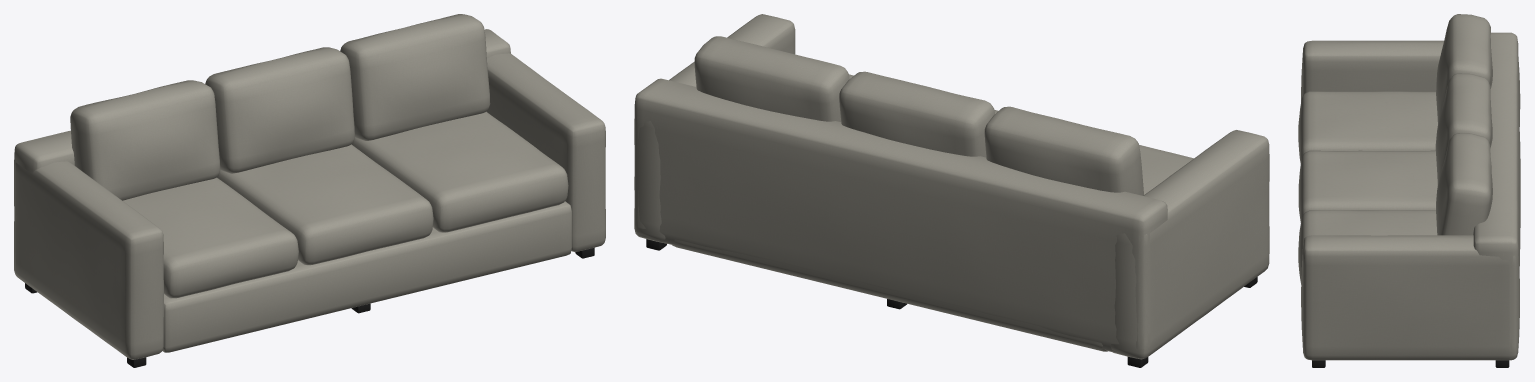
The model's file is sofa_moderno_3p.glb.
3 renders of one model, left to right at view 1: azimuth 30°, elevation 25°; view 2: azimuth 150°, elevation 25°; view 3: azimuth 270°, elevation 25°, orthographic. The views are drawn at different scales.
Parts seen in each view (by area): view 1: sofa_moderno_3p; view 2: sofa_moderno_3p; view 3: sofa_moderno_3p.
Boxes of the visible parts, <box> form: sofa_moderno_3p: <box>14,14,605,367</box>; sofa_moderno_3p: <box>634,14,1269,367</box>; sofa_moderno_3p: <box>1298,14,1520,367</box>.
Size of the model in its own units: 2.21 by 0.8267 by 0.9809.
2 materials, 1 textured.
